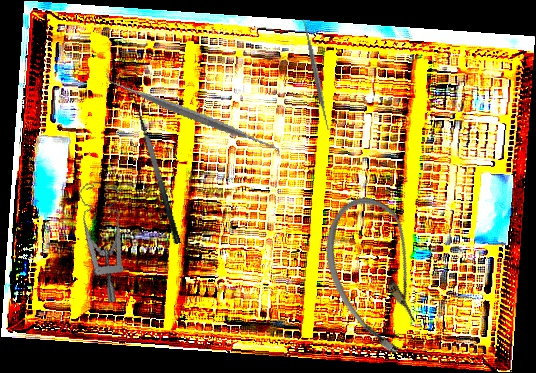Cannula: (305, 185, 450, 365)
Spatula Surgical: (104, 29, 282, 200), (121, 92, 182, 249), (298, 17, 335, 134)
Speculum: (51, 176, 148, 305)
